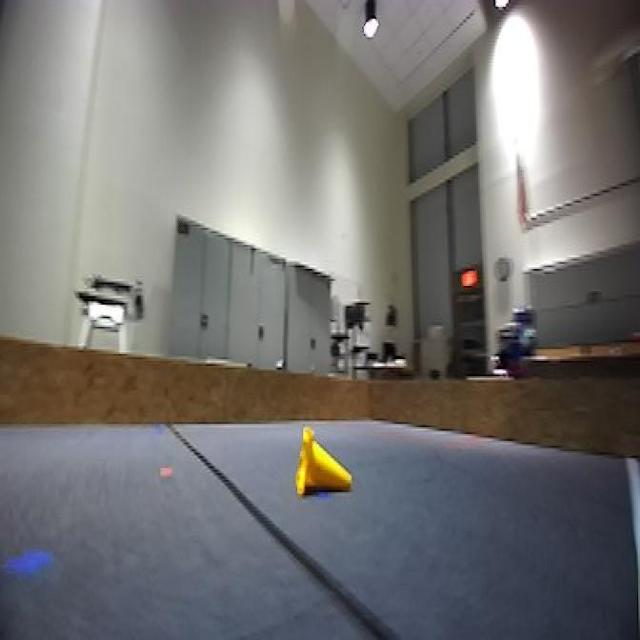frc_cone: (294, 424, 352, 504)
